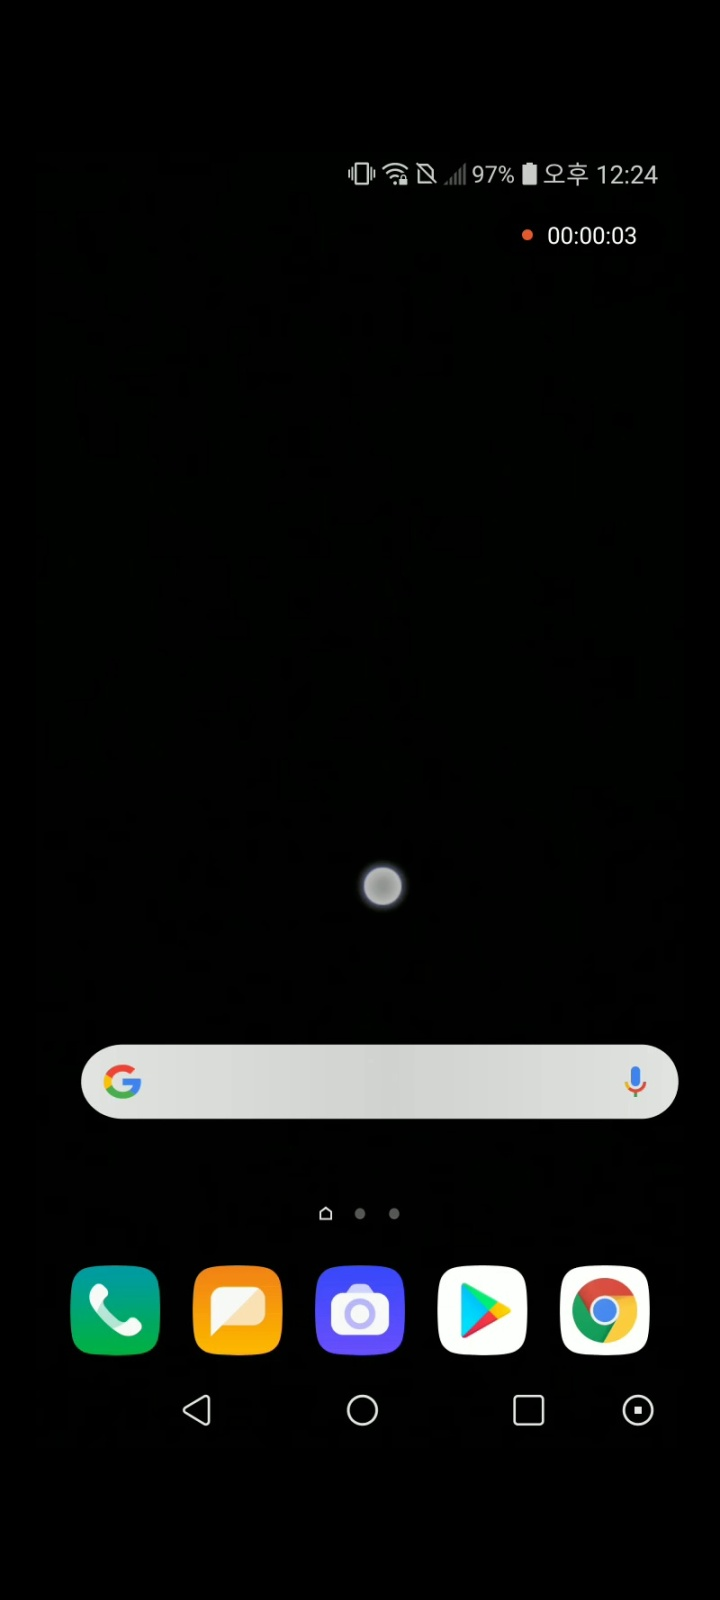Cursor: (361, 865, 406, 910)
